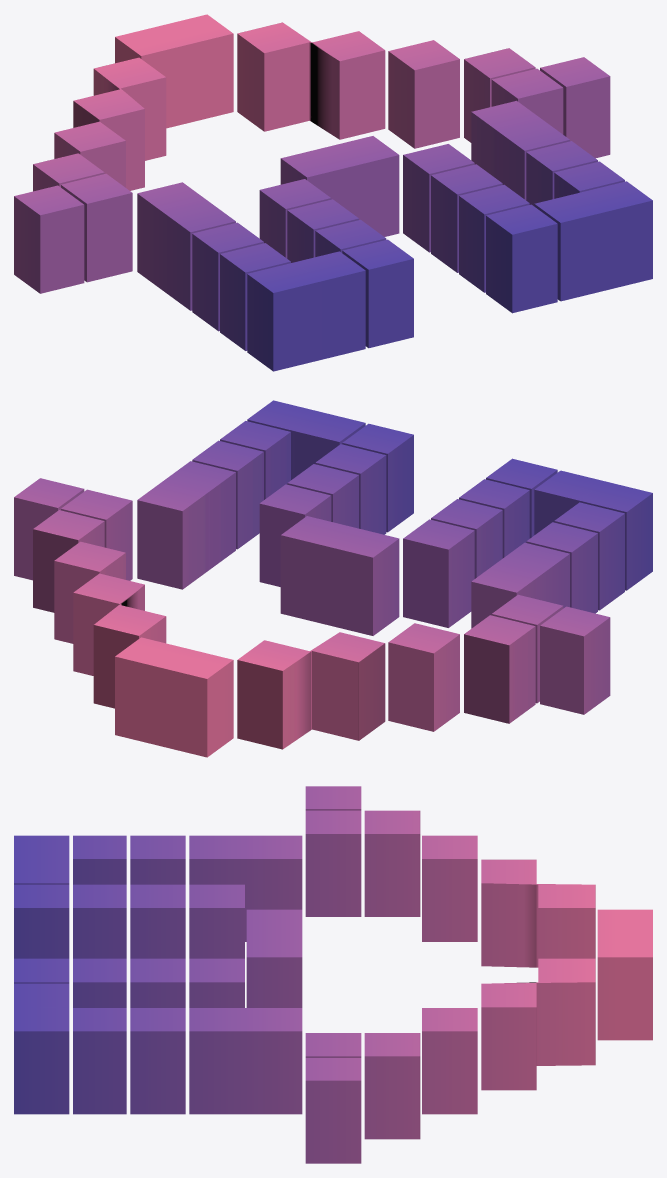
The model's file is icon.glb.
3 views of the same model, one above another, from view 1: azimuth 30°, elevation 25°; view 2: azimuth 150°, elevation 25°; view 3: azimuth 270°, elevation 25° (orthographic). The views are drawn at different scales.
Size of the model in its own units: 0.0988 by 0.013 by 0.0907.
1 material, 1 textured.
